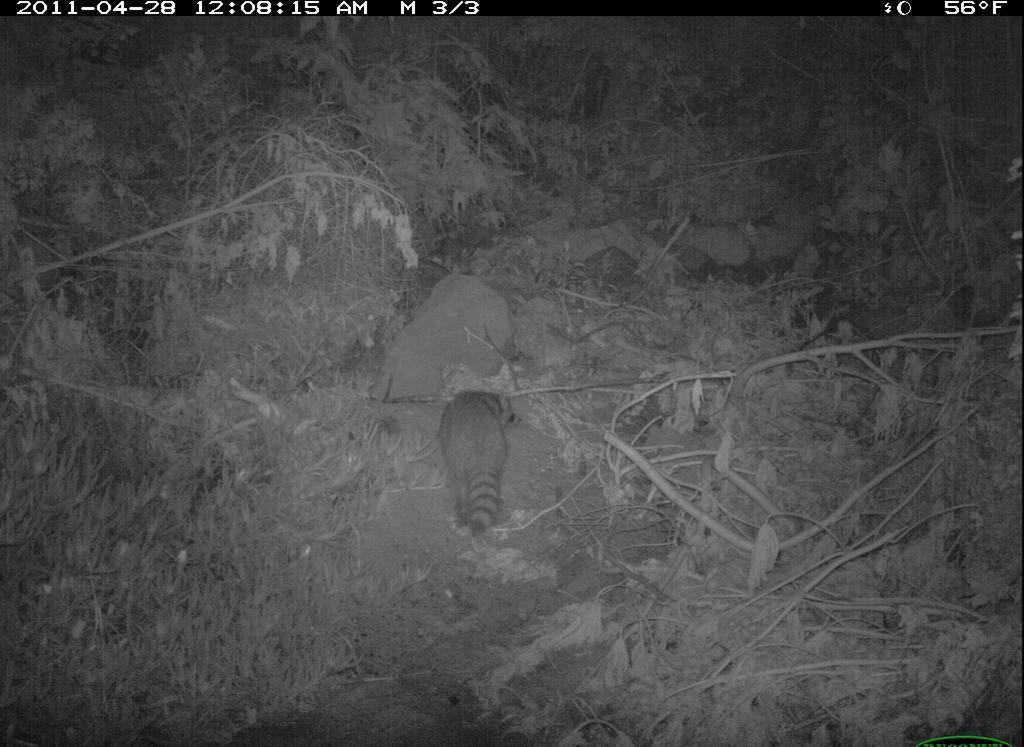raccoon: (431, 378, 532, 543)
